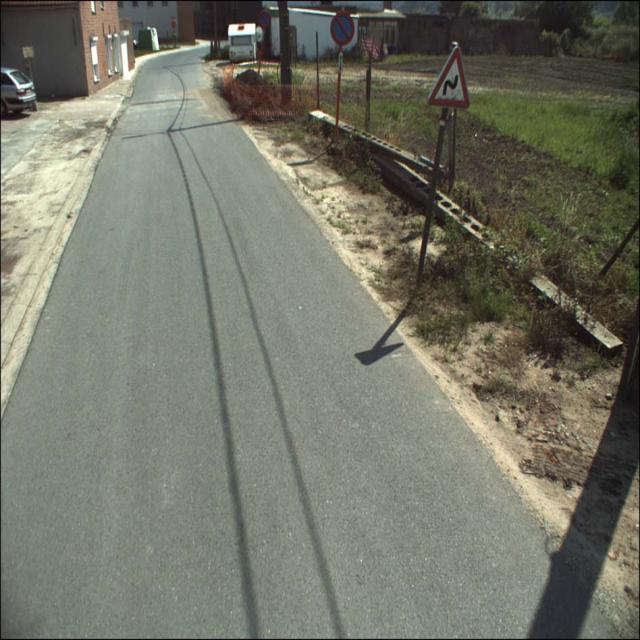parkyasak: (331, 12, 355, 44), (259, 10, 271, 28)
